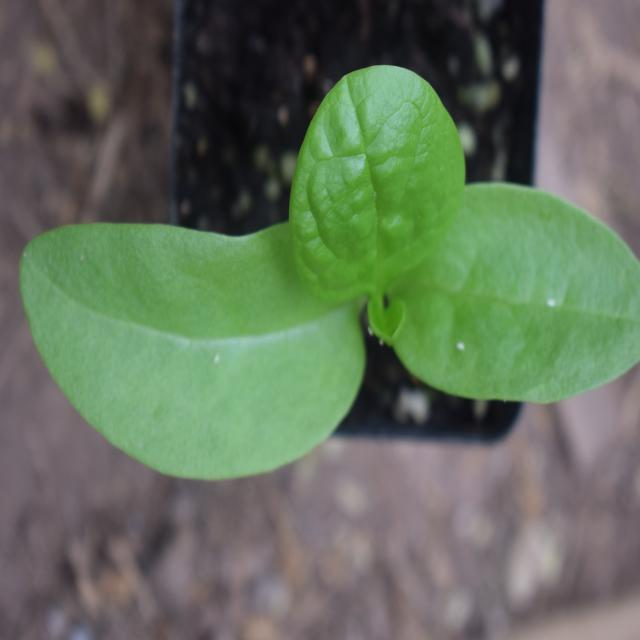Ceylon spinach: (33, 86, 628, 516)
